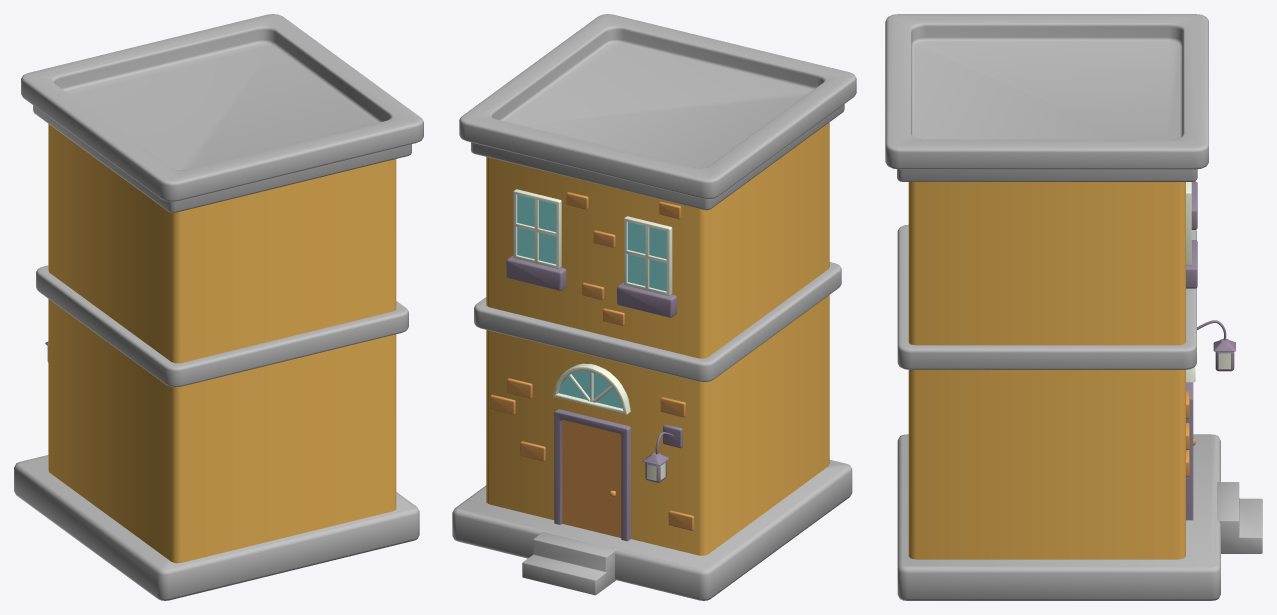
Rendered from yellow_build.fbx.
3 renders of one model, left to right at view 1: azimuth 30°, elevation 25°; view 2: azimuth 150°, elevation 25°; view 3: azimuth 270°, elevation 25°, orthographic. The views are drawn at different scales.
Visible parts, largest first — view 1: building_yellow_ust, building_yellow_alt; view 2: building_yellow_ust, building_yellow_alt; view 3: building_yellow_ust, building_yellow_alt.
Boxes of the visible parts, x1=… form: building_yellow_ust: x1=21, y1=14, x2=423, y2=363; building_yellow_alt: x1=14, y1=265, x2=419, y2=600; building_yellow_ust: x1=459, y1=14, x2=856, y2=358; building_yellow_alt: x1=452, y1=262, x2=852, y2=600; building_yellow_ust: x1=885, y1=14, x2=1208, y2=345; building_yellow_alt: x1=897, y1=224, x2=1262, y2=600.
Bounding box in the file's own units: 350 × 541 × 408.
Materials: 2 (2 with a texture image).
